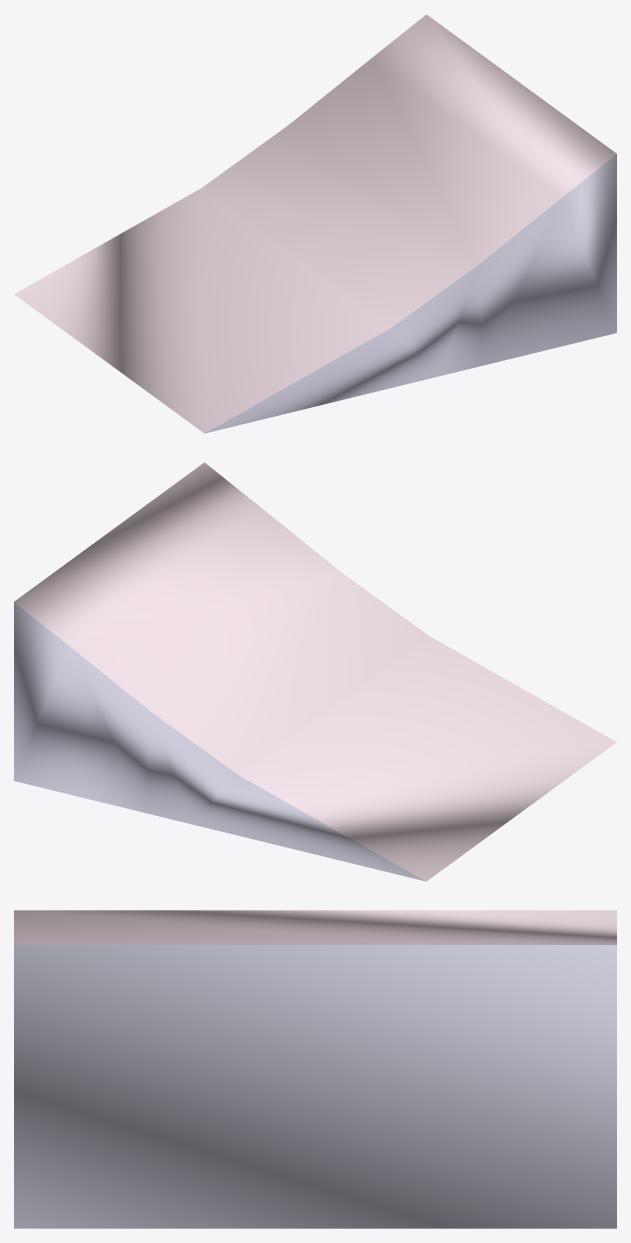
Rendered from SkateboardLaunchRampCement.glb.
The picture shows the model from 3 angles, top to bottom: view 1: azimuth 30°, elevation 25°; view 2: azimuth 150°, elevation 25°; view 3: azimuth 270°, elevation 25°; orthographic projection. The views are drawn at different scales.
Visible parts, largest first — view 1: SkateboardLaunchRampCement; view 2: SkateboardLaunchRampCement; view 3: SkateboardLaunchRampCement.
Part boxes in pixels (x1,y1,x2,y2): SkateboardLaunchRampCement: (14,14,616,433); SkateboardLaunchRampCement: (14,462,616,881); SkateboardLaunchRampCement: (14,910,616,1228).
Bounding box in the file's own units: 2.5 × 1.04 × 2.
Materials: 1 (1 with a texture image).
